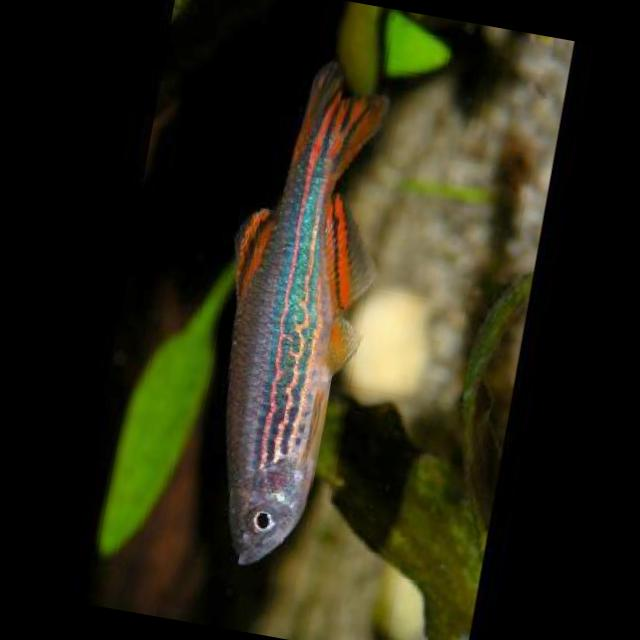ZebraFish: (174, 48, 405, 578)
